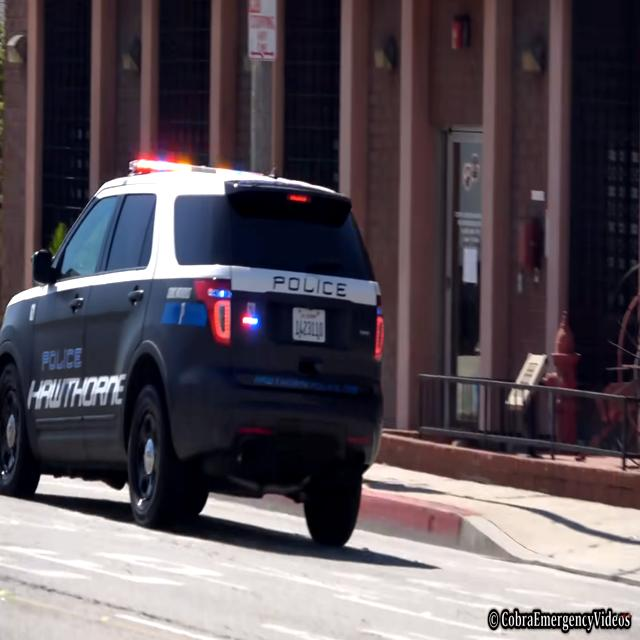emergency-vehicles: (0, 144, 410, 555)
